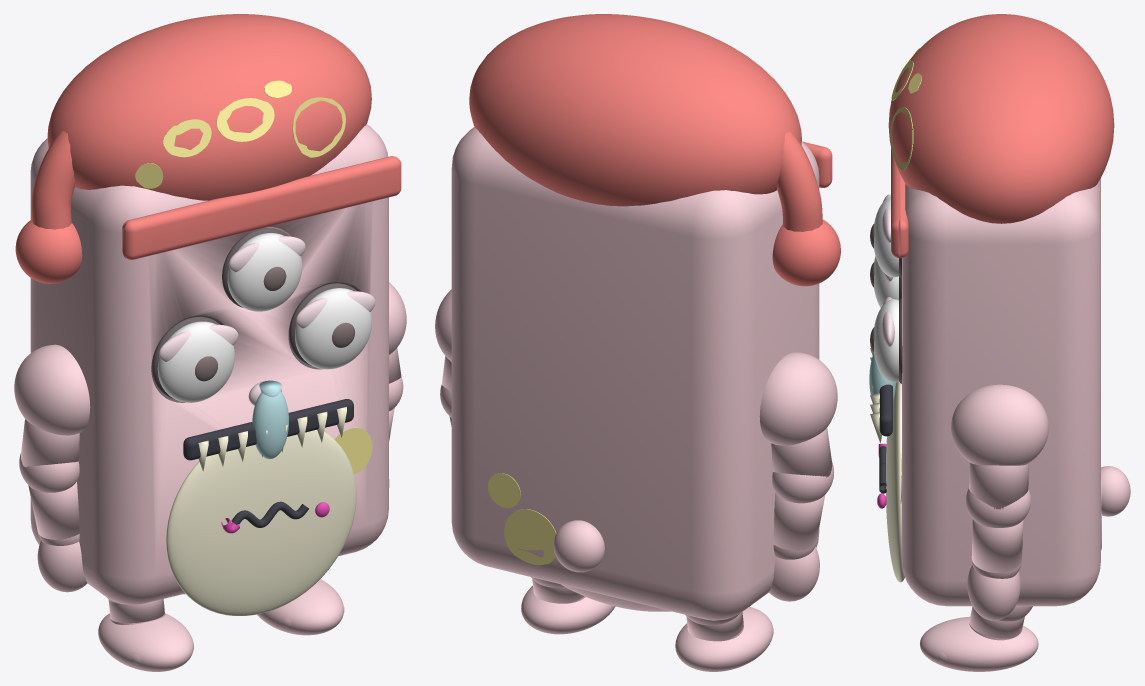
File: samsul_v2.glb
The picture shows the model from 3 angles, left to right: view 1: azimuth 30°, elevation 25°; view 2: azimuth 150°, elevation 25°; view 3: azimuth 270°, elevation 25°; orthographic projection. The views are drawn at different scales.
Visible parts, largest first — view 1: BODY_CORE, HAT_DOME, BELLY_PATCH, HAT_BAND, SHOULDER_L, FOOT_L, EYE_LEFT_WHITE, EYE_RIGHT_WHITE, EYE_TOP_WHITE, HAT_POM, HAT_TAIL, FOOT_R (+20 smaller); view 2: BODY_CORE, HAT_DOME, SHOULDER_L, FOOT_L, HAT_POM, HAT_TAIL, FOOT_R, FOREARM_L, SPOT_BODY_BACK_2, BACK_NUB, UPPER_ARM_L, HAND_L_PALM (+7 smaller); view 3: BODY_CORE, HAT_DOME, SHOULDER_R, FOOT_R, BELLY_PATCH, FOREARM_R, UPPER_ARM_R, HAND_R_PALM, ELBOW_R, EYE_RIGHT_WHITE, HAT_BAND, BACK_NUB (+7 smaller).
Part boxes in pixels (<box>): BODY_CORE: <box>30,124,388,605</box>; HAT_DOME: <box>47,14,371,200</box>; BELLY_PATCH: <box>166,430,356,615</box>; HAT_BAND: <box>122,156,401,259</box>; SHOULDER_L: <box>14,344,90,435</box>; FOOT_L: <box>98,613,193,671</box>; EYE_LEFT_WHITE: <box>157,321,234,402</box>; EYE_RIGHT_WHITE: <box>295,288,371,369</box>; EYE_TOP_WHITE: <box>227,233,302,311</box>; HAT_POM: <box>15,219,82,283</box>; HAT_TAIL: <box>31,130,75,229</box>; FOOT_R: <box>257,579,343,635</box>; BODY_CORE: <box>451,127,819,620</box>; HAT_DOME: <box>469,14,801,206</box>; SHOULDER_L: <box>759,352,837,445</box>; FOOT_L: <box>675,606,773,671</box>; HAT_POM: <box>772,219,840,286</box>; HAT_TAIL: <box>776,131,822,231</box>; FOOT_R: <box>521,585,615,634</box>; FOREARM_L: <box>773,492,824,550</box>; SPOT_BODY_BACK_2: <box>504,509,556,565</box>; BACK_NUB: <box>553,520,604,572</box>; UPPER_ARM_L: <box>771,427,832,477</box>; HAND_L_PALM: <box>769,546,819,601</box>; BODY_CORE: <box>902,178,1100,606</box>; HAT_DOME: <box>888,14,1114,223</box>; SHOULDER_R: <box>951,384,1048,465</box>; FOOT_R: <box>920,616,1038,671</box>; BELLY_PATCH: <box>885,381,904,582</box>; FOREARM_R: <box>971,519,1023,572</box>; UPPER_ARM_R: <box>969,462,1028,509</box>; HAND_R_PALM: <box>967,565,1020,620</box>; ELBOW_R: <box>966,488,1031,527</box>; EYE_RIGHT_WHITE: <box>874,299,898,382</box>; HAT_BAND: <box>891,100,908,258</box>; BACK_NUB: <box>1101,466,1130,516</box>.
Size of the model in its own units: 2.89 by 4.38 by 1.76.
